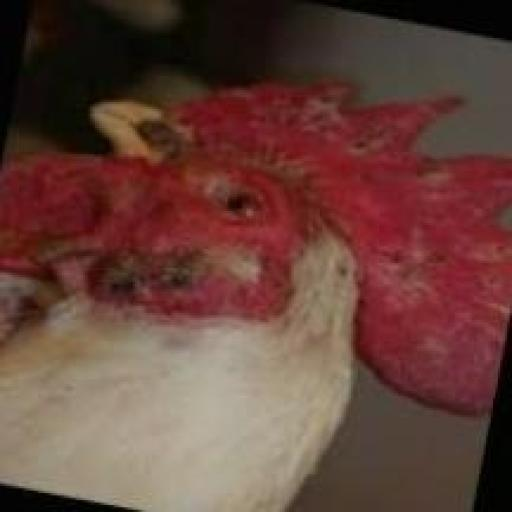disease: (92, 202, 230, 306), (374, 203, 461, 320), (307, 103, 399, 173)
